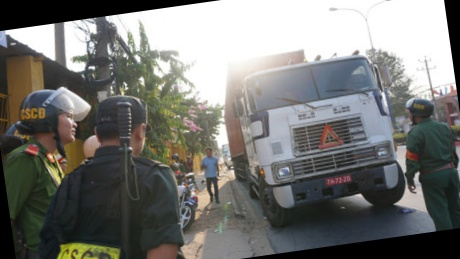plate: (323, 175, 355, 187)
